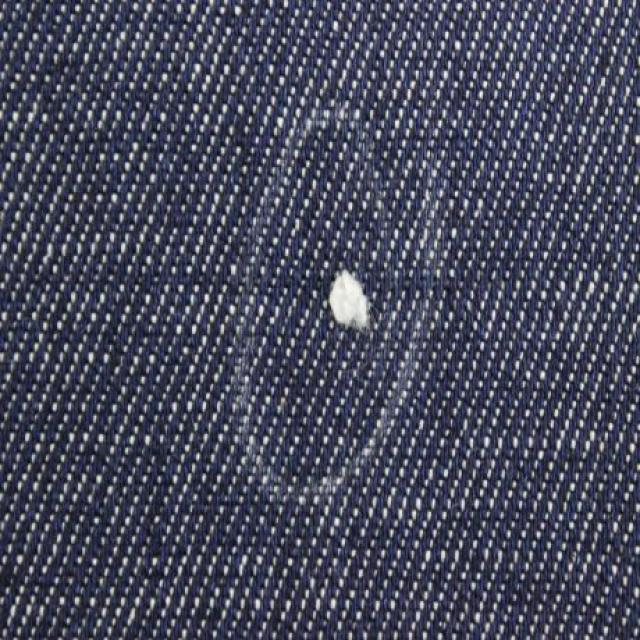Thread_other: (282, 227, 422, 367)
